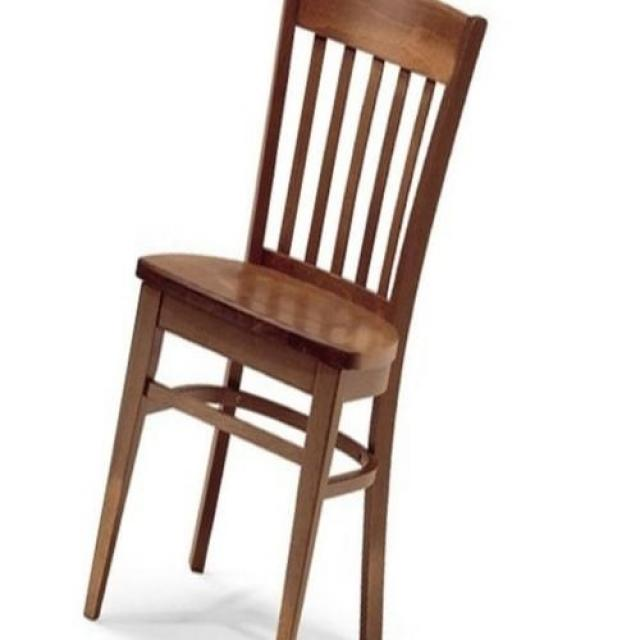Chair: (82, 1, 488, 640)
